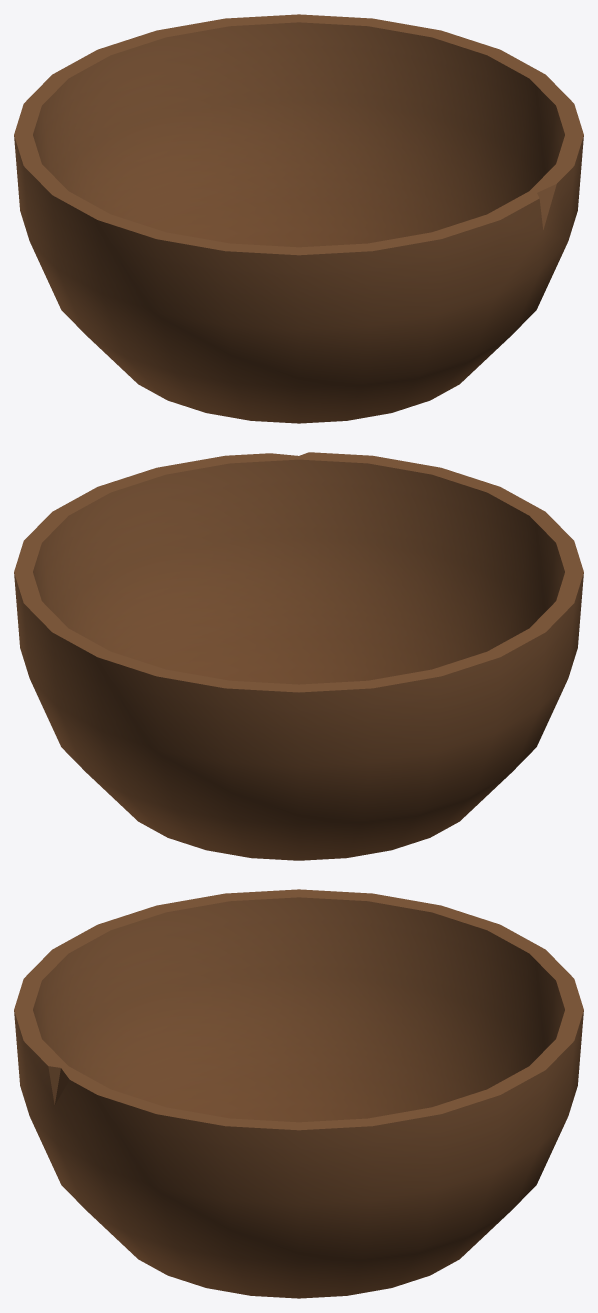
The model's file is Bowl_Small.fbx.
3 renders of one model, top to bottom at view 1: azimuth 30°, elevation 25°; view 2: azimuth 150°, elevation 25°; view 3: azimuth 270°, elevation 25°, orthographic.
Parts seen in each view (by area): view 1: Bowl_Small; view 2: Bowl_Small; view 3: Bowl_Small.
Part boxes in pixels (x1,y1,x2,y2): Bowl_Small: [14, 14, 583, 423]; Bowl_Small: [14, 452, 583, 860]; Bowl_Small: [14, 889, 583, 1298].
Size of the model in its own units: 15 by 6.77 by 15.
